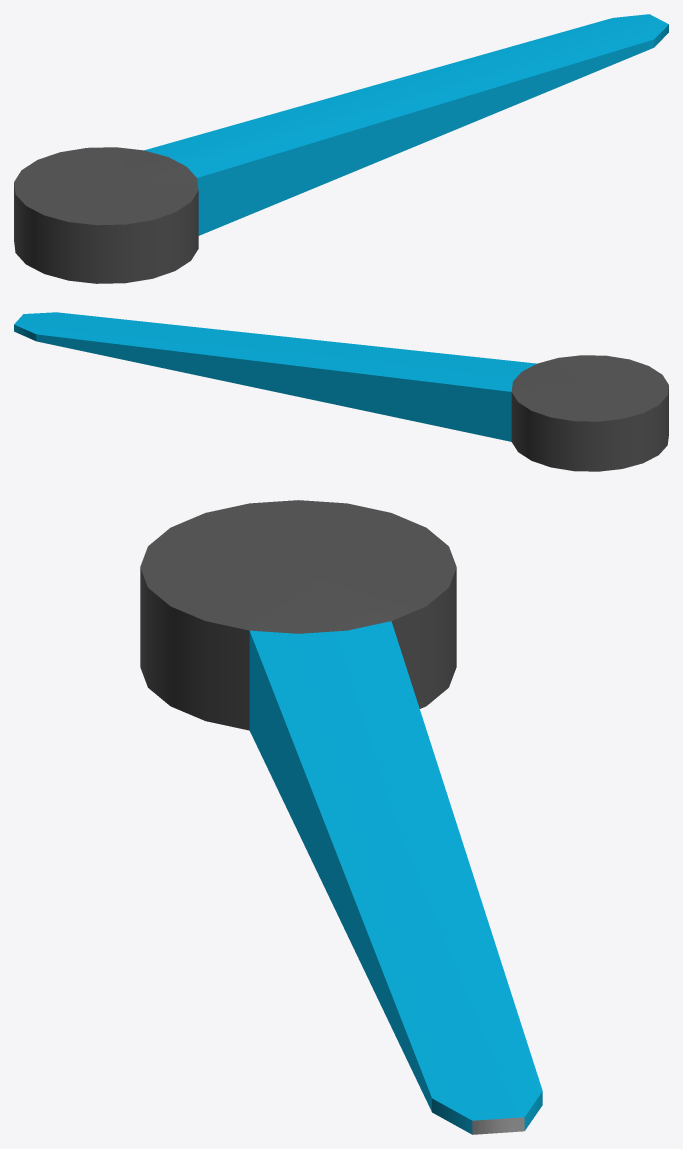
The model's file is sword.fbx.
3 views of the same model, one above another, from view 1: azimuth 30°, elevation 25°; view 2: azimuth 150°, elevation 25°; view 3: azimuth 270°, elevation 25° (orthographic). The views are drawn at different scales.
Visible parts, largest first — view 1: pCylinder1; view 2: pCylinder1; view 3: pCylinder1.
Part boxes in pixels (x1,y1,x2,y2): pCylinder1: (14,14,668,283); pCylinder1: (14,312,668,471); pCylinder1: (140,500,542,1134).
Size of the model in its own units: 13.42 by 1.08 by 3.95.
